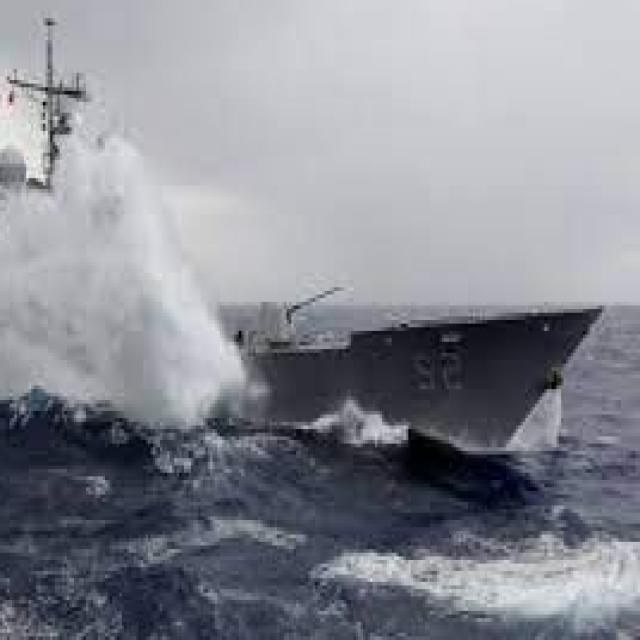navalvessels: (0, 69, 602, 491)
